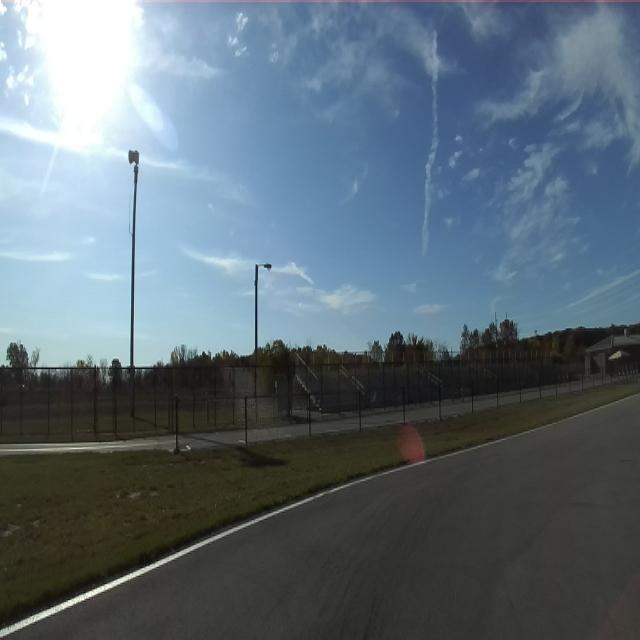white-line: (0, 445, 482, 637)
